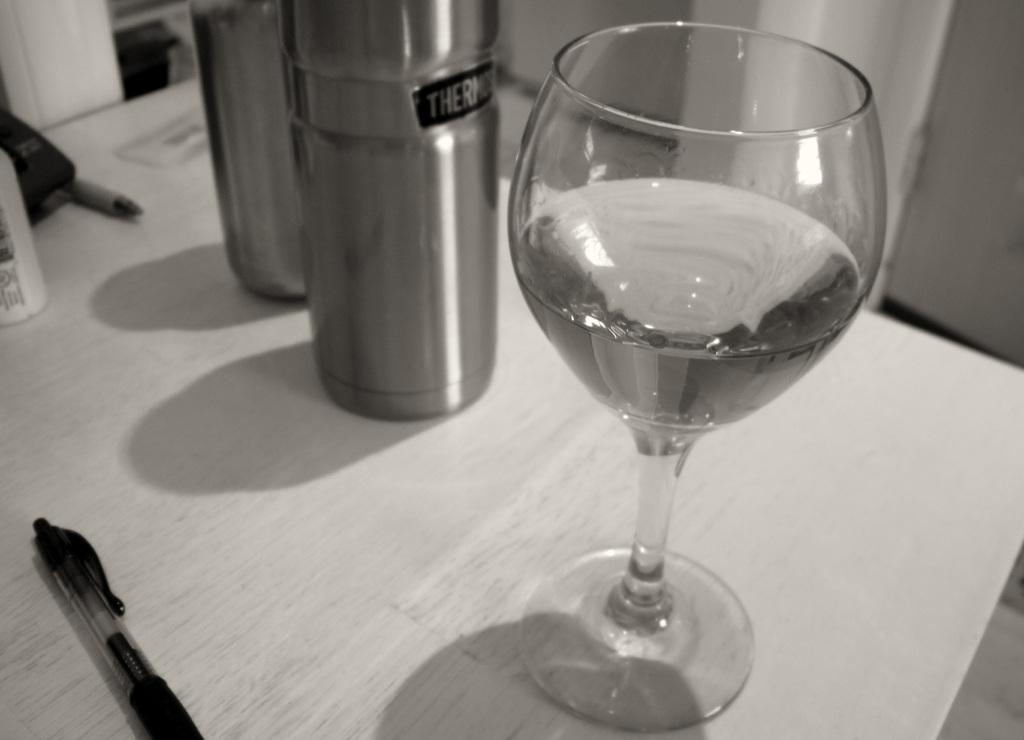pen: (30, 511, 202, 739), (63, 176, 144, 221)
